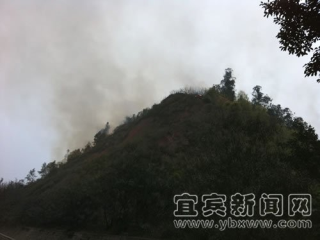smoke: (37, 62, 180, 164)
